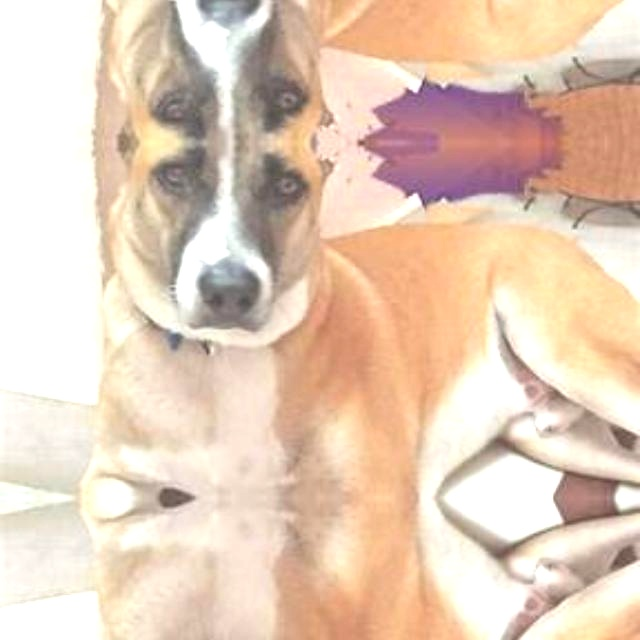dog: (68, 142, 627, 498), (68, 497, 627, 640), (68, 0, 627, 142)
